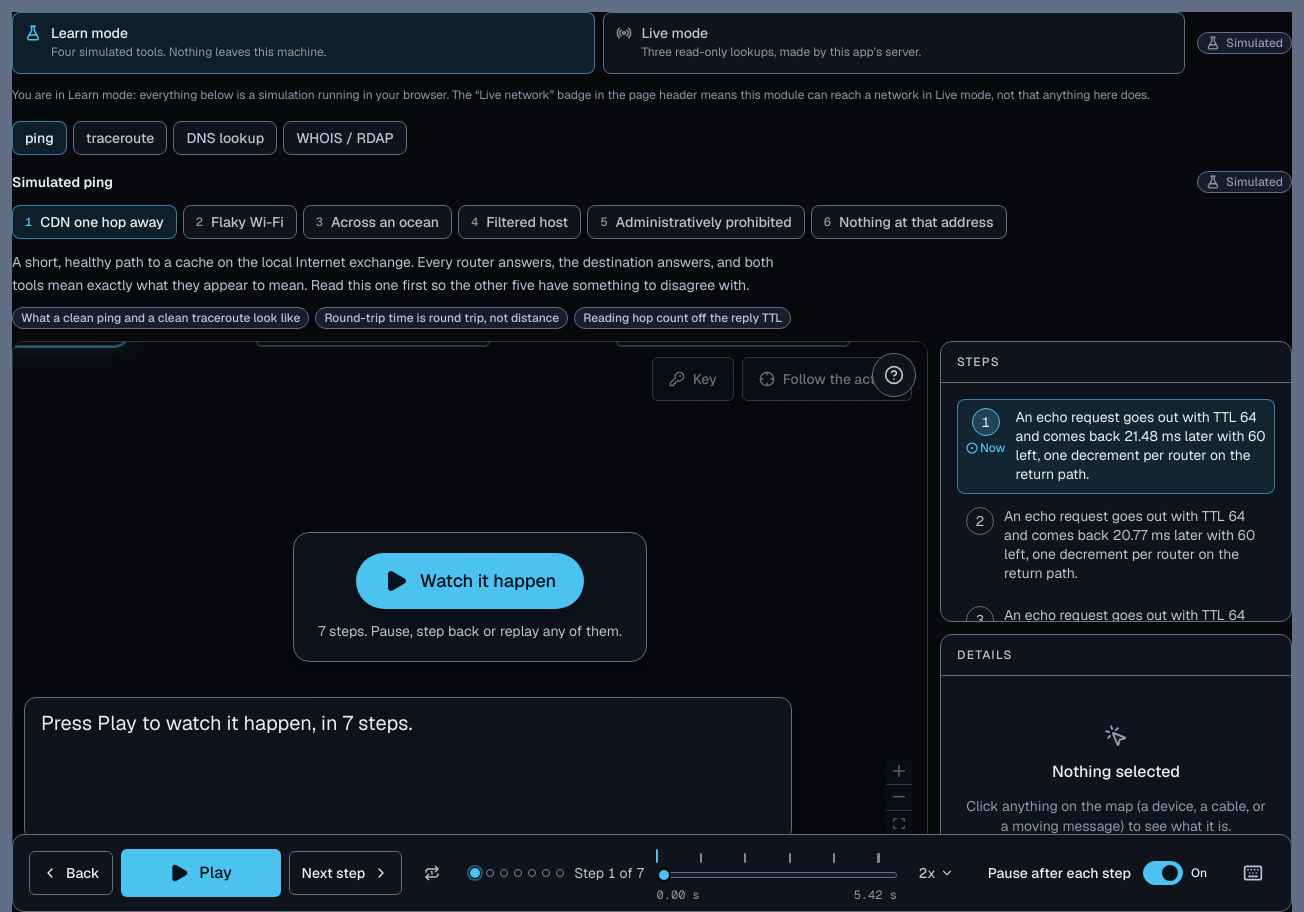
Scenario: live mode › refuses a private address in the browser, before any request is made
Click the button "Live mode" at (894, 43), box top-left (602, 12), bottom-right (1185, 74)
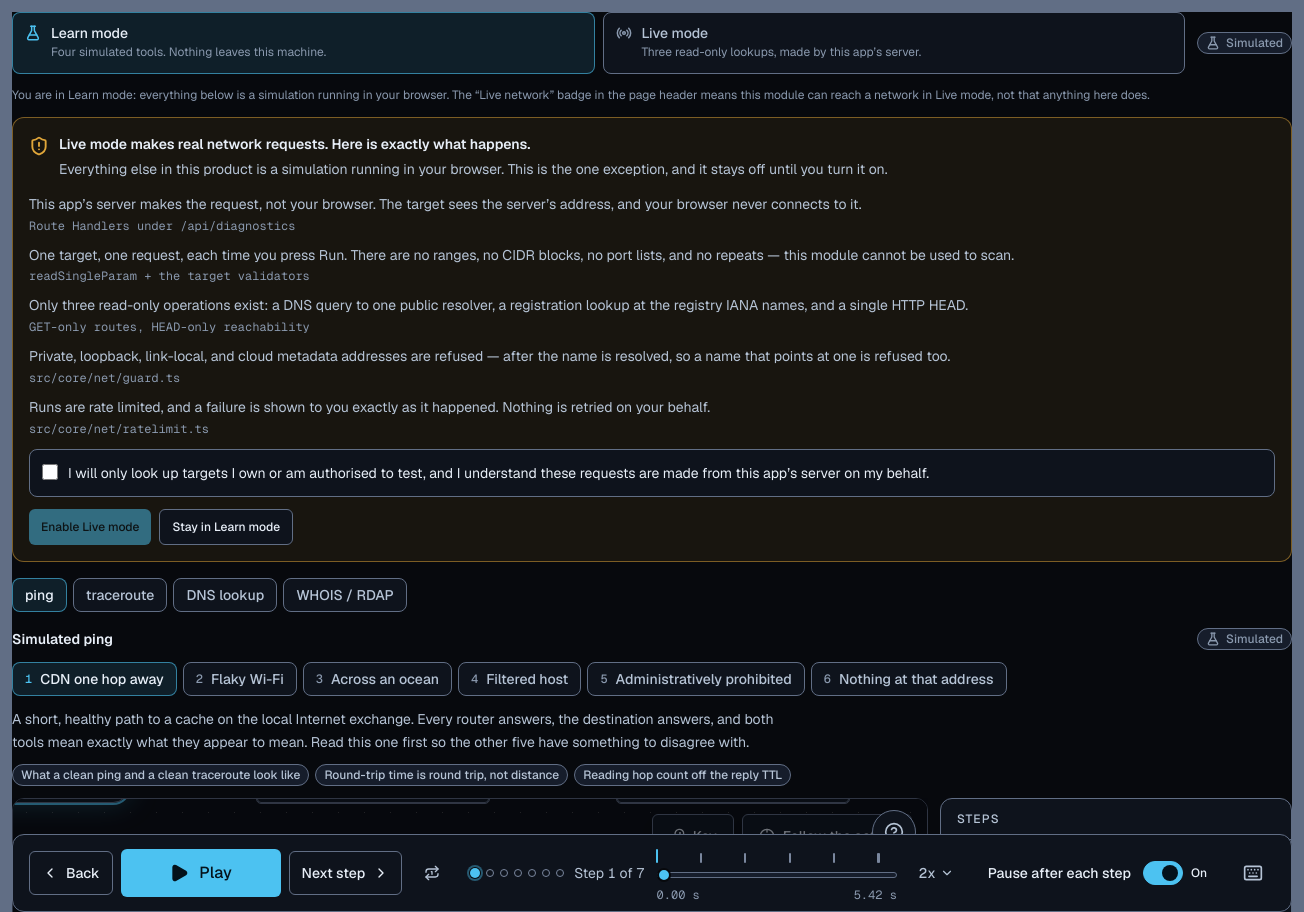
Click the checkbox at (50, 472), box top-left (42, 464), bottom-right (58, 480)
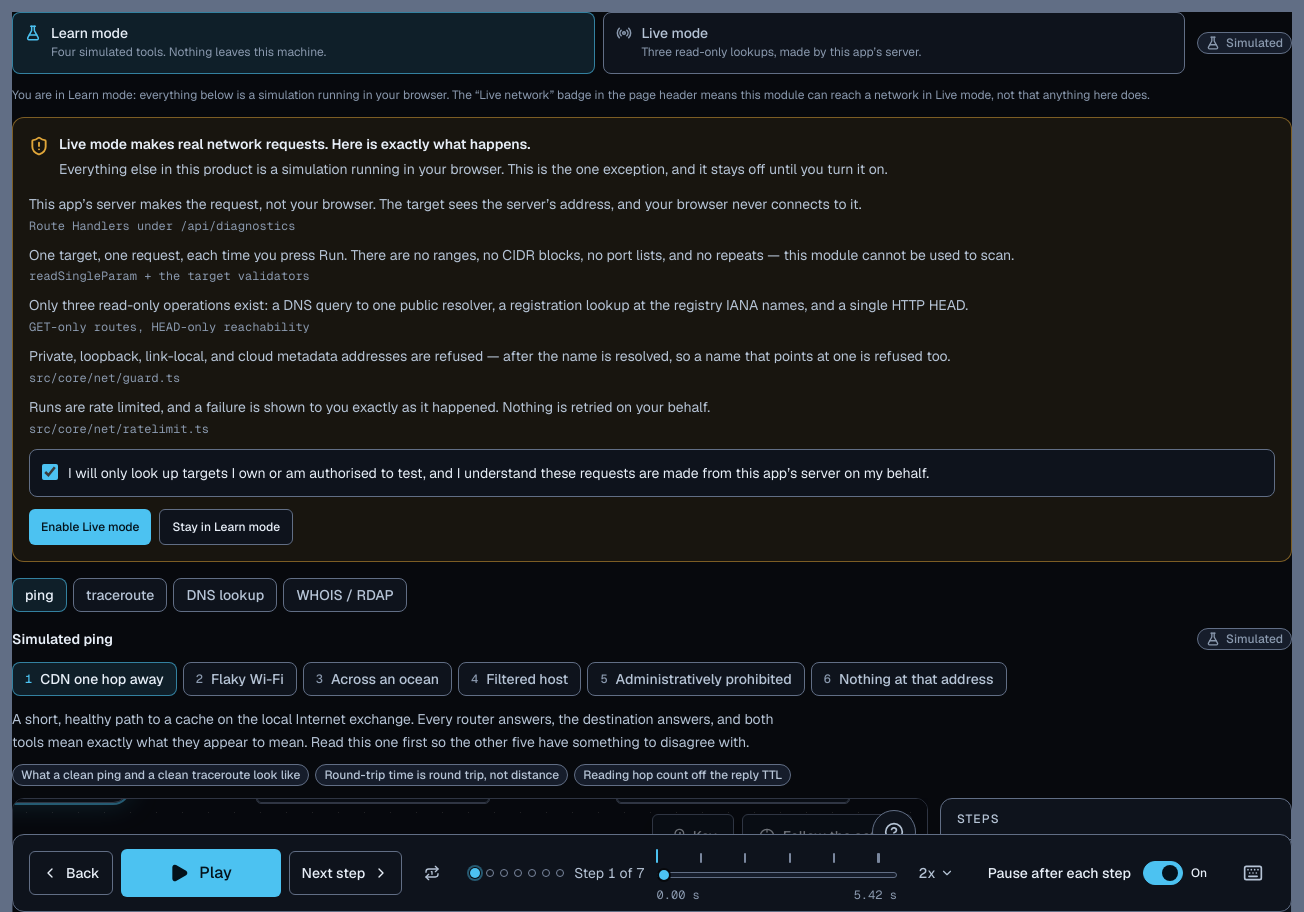
Click the button "Enable Live mode" at (90, 527), box top-left (29, 509), bottom-right (152, 545)
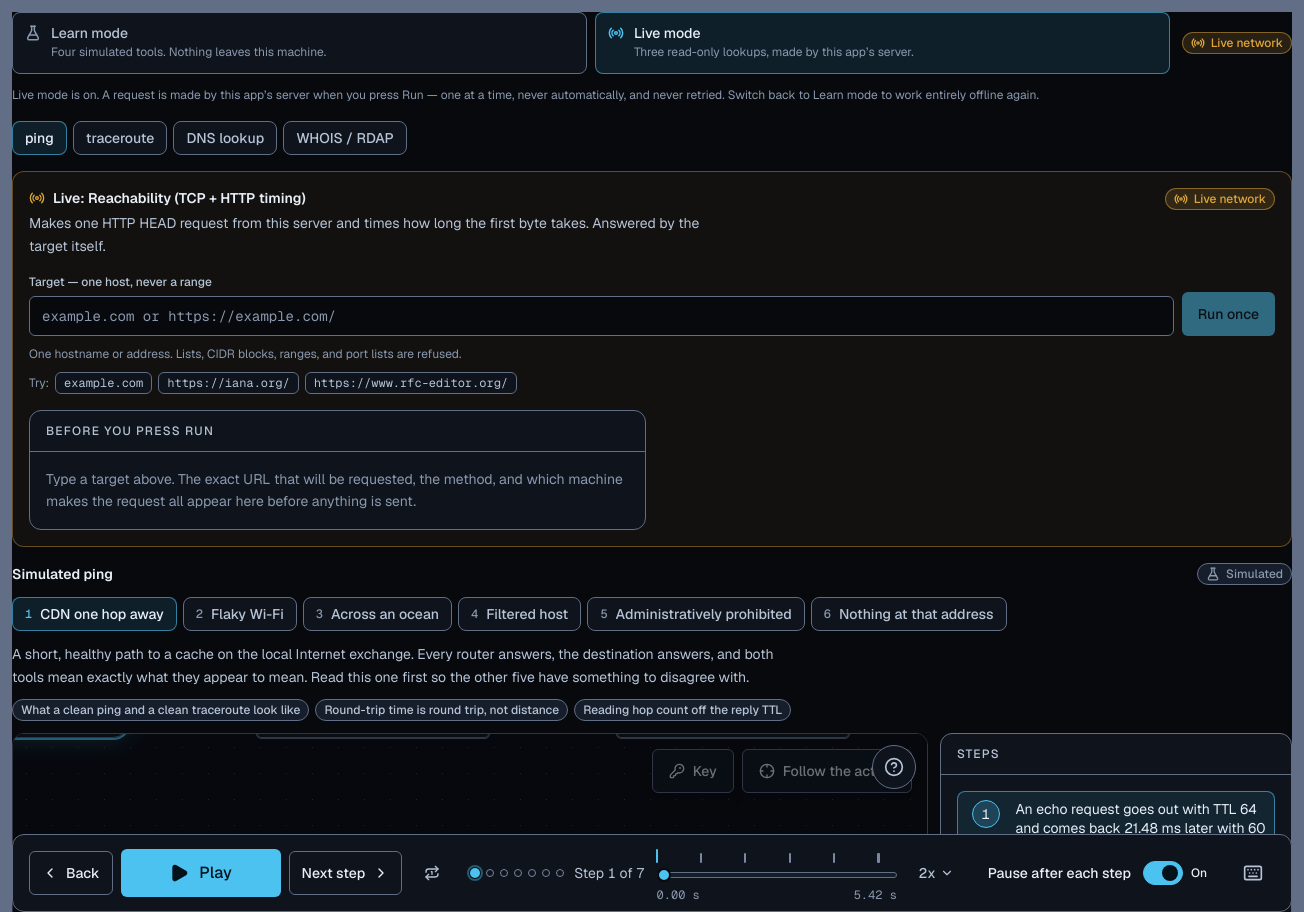
Click the button "DNS lookup" at (225, 138), box top-left (173, 121), bottom-right (277, 155)
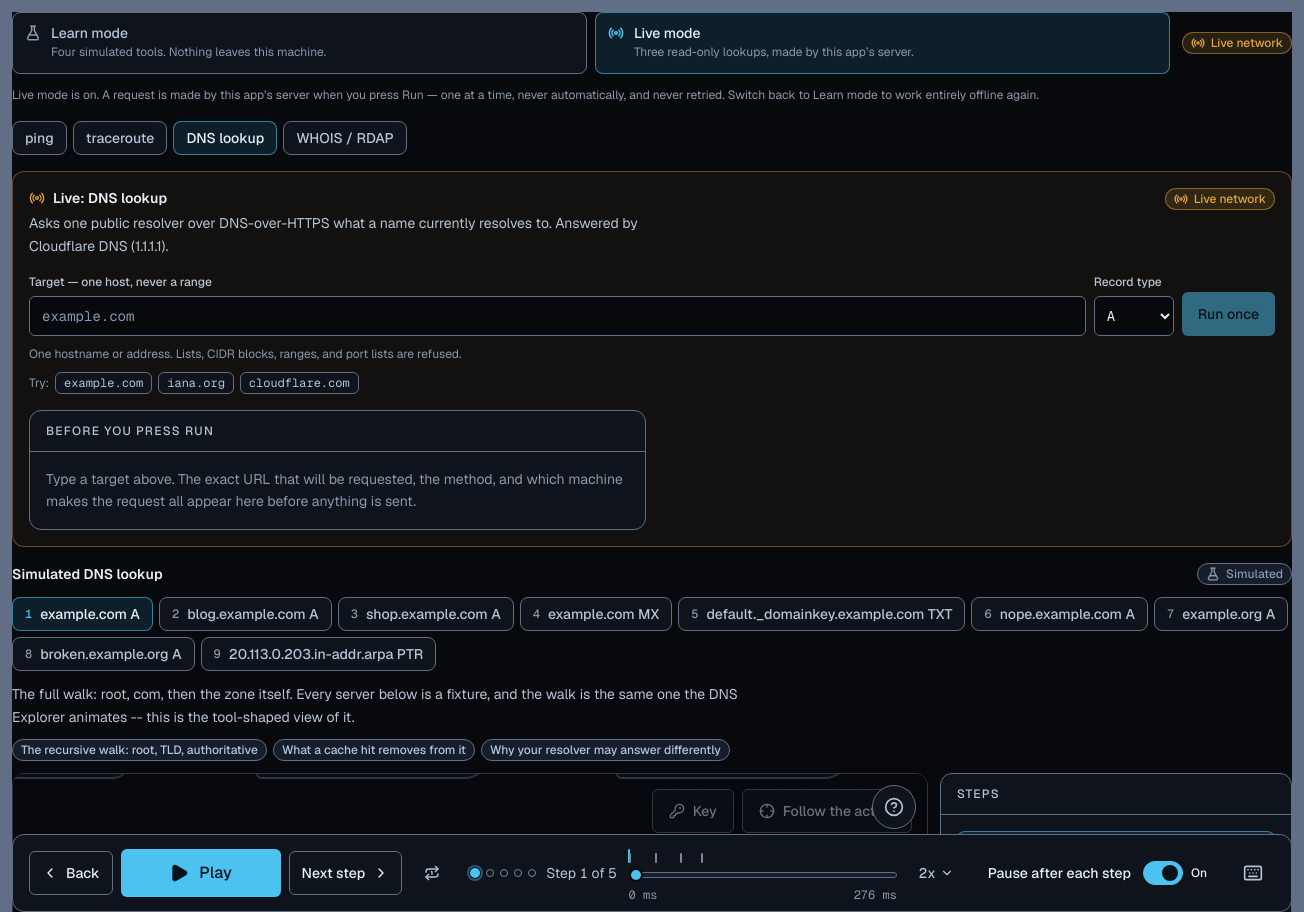
Type "10.0.0.1" into the field labelled "Target — one host, never a range" at (557, 316), box top-left (29, 296), bottom-right (1086, 336)
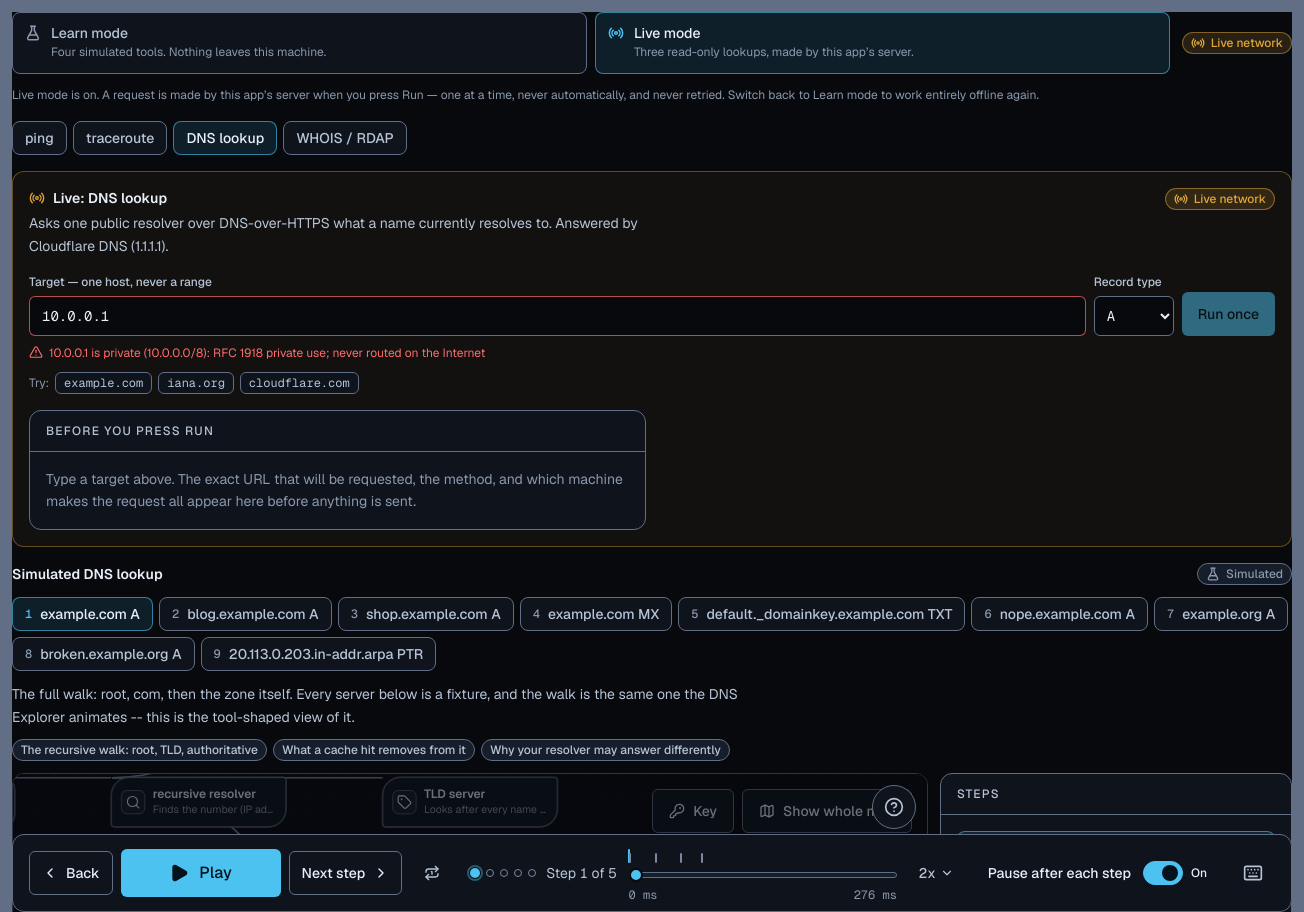
Result: the button "Run once" is disabled at top-left (1182, 292), bottom-right (1275, 336)
Result: the text "private" is shown at top-left (49, 345), bottom-right (485, 361)
